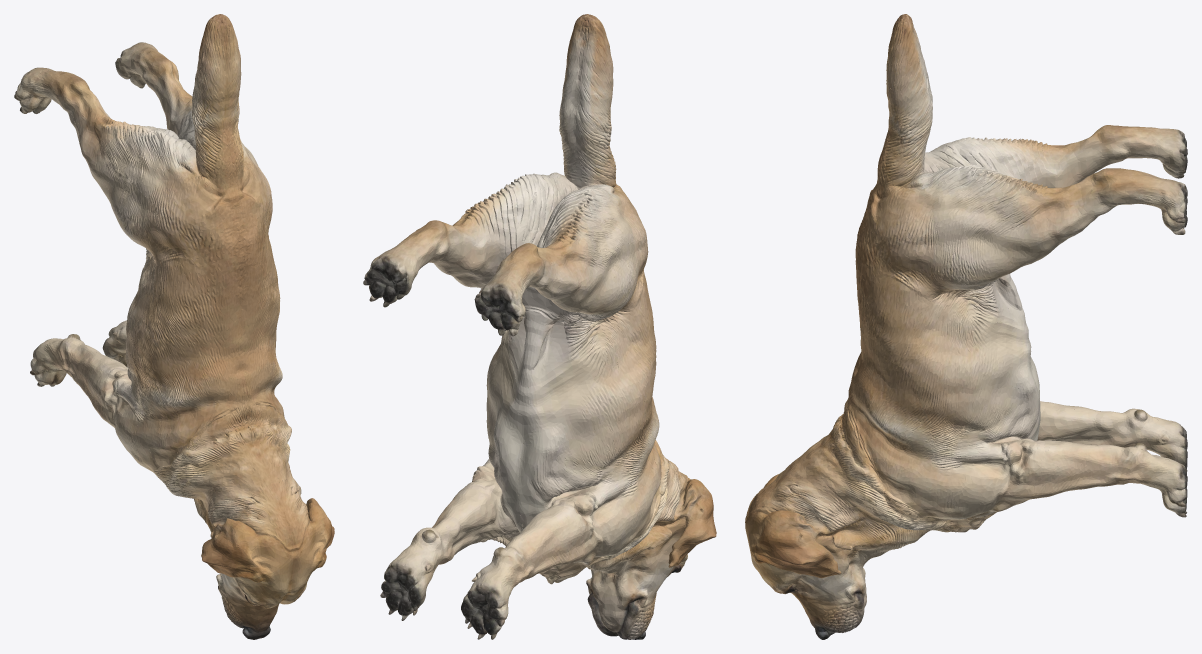
Rendered from labrador_aligned.obj.
3 views of the same model, side by side, from view 1: azimuth 30°, elevation 25°; view 2: azimuth 150°, elevation 25°; view 3: azimuth 270°, elevation 25° (orthographic). The views are drawn at different scales.
Parts seen in each view (by area): view 1: tripo_mesh_29b68ff5-f88e-4de6-ad81-c5c2bffbbe17; view 2: tripo_mesh_29b68ff5-f88e-4de6-ad81-c5c2bffbbe17; view 3: tripo_mesh_29b68ff5-f88e-4de6-ad81-c5c2bffbbe17.
Part boxes in pixels (x1=…): tripo_mesh_29b68ff5-f88e-4de6-ad81-c5c2bffbbe17: x1=14, y1=14, x2=334, y2=639; tripo_mesh_29b68ff5-f88e-4de6-ad81-c5c2bffbbe17: x1=363, y1=14, x2=716, y2=639; tripo_mesh_29b68ff5-f88e-4de6-ad81-c5c2bffbbe17: x1=745, y1=14, x2=1187, y2=639.
Size of the model in its own units: 280 by 1118 by 721.
1 material, 1 textured.
